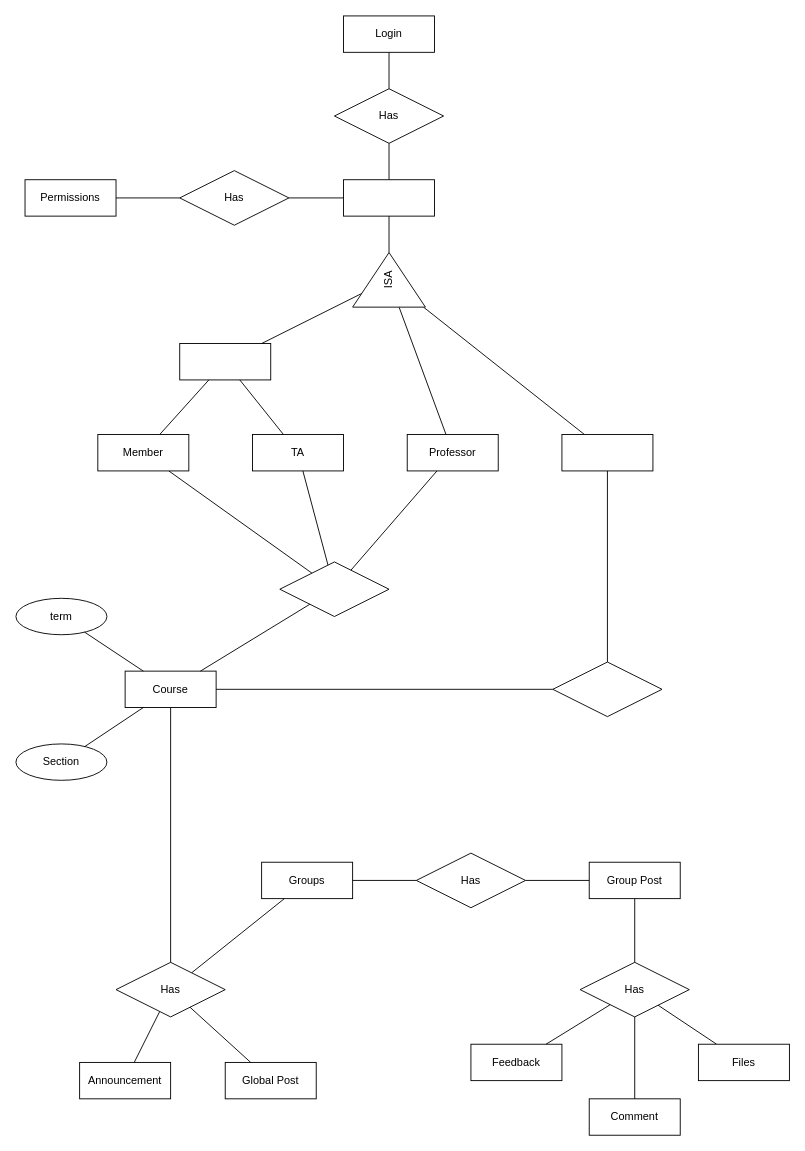
This 805x1151 diagram has some shape labels left out. The box of each missing label's shape, as (x1, y1, x2, y2) in pixels:
CGA Admin: (561, 434, 653, 471)
Enrolled: (279, 561, 389, 617)
Manage: (552, 661, 662, 717)
Student: (179, 343, 271, 380)
User: (343, 179, 435, 216)
